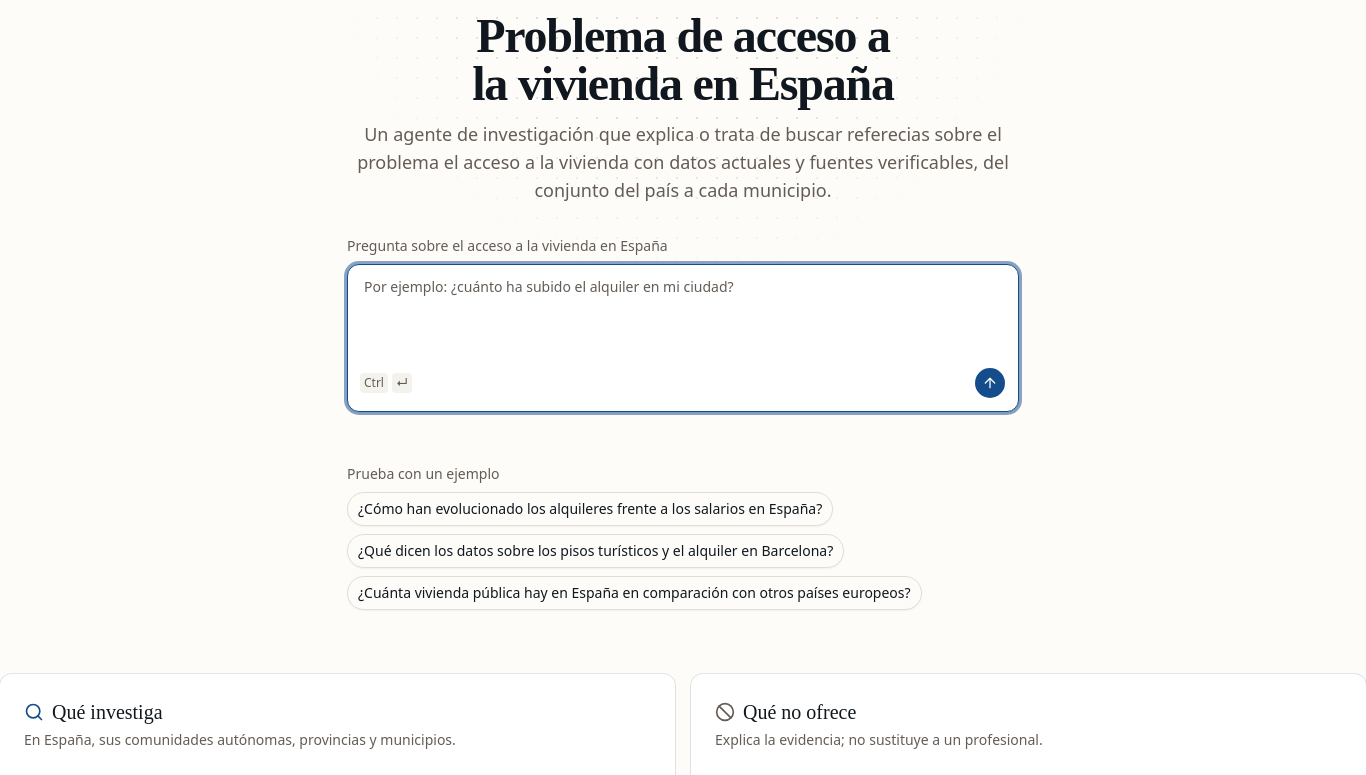
Test case: ResearchRequestForm › announces the status politely without moving focus
Step 1. Type "Hola" into the text box labelled "Pregunta sobre el acceso a la vivienda en España" → {"x": 683, "y": 313}, box [348,265,1018,361]
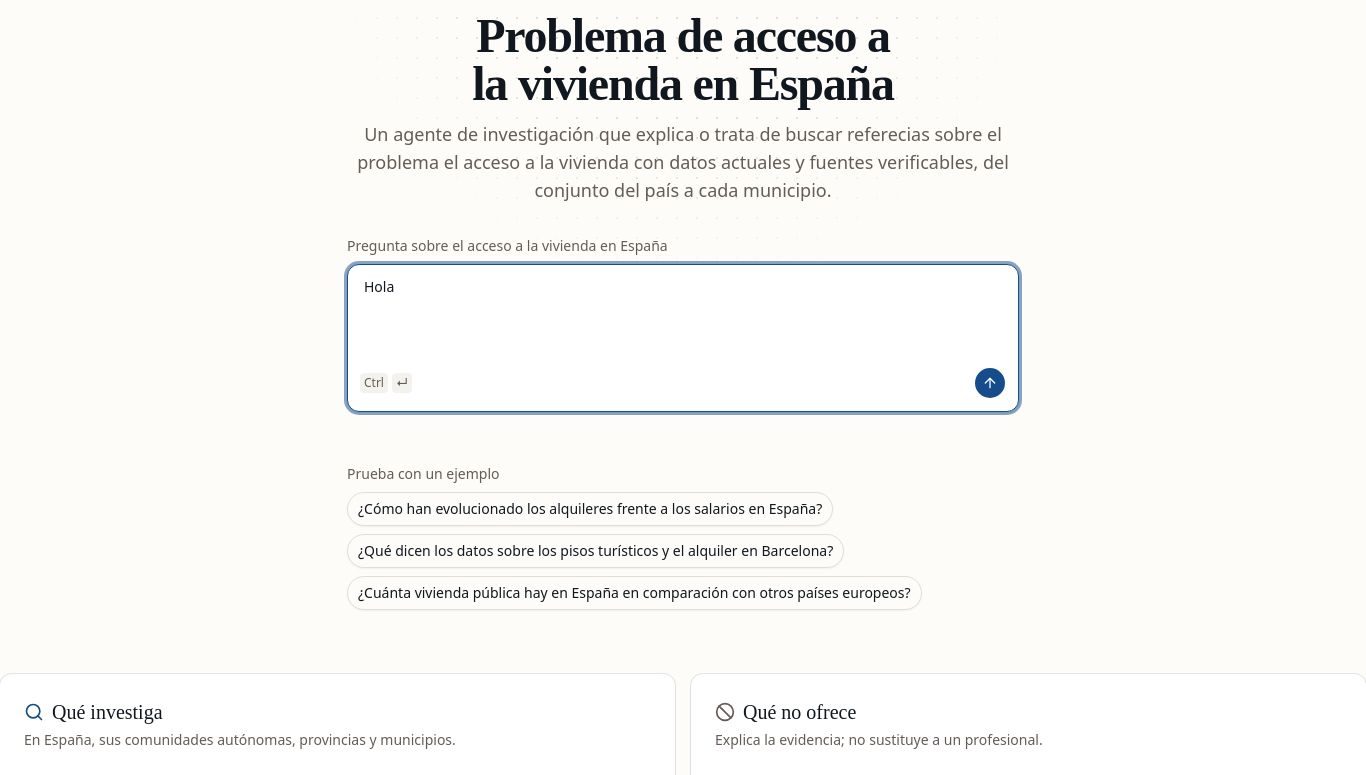
Step 2. Press Enter in the text box labelled "Pregunta sobre el acceso a la vivienda en España", box [348,265,1018,361]
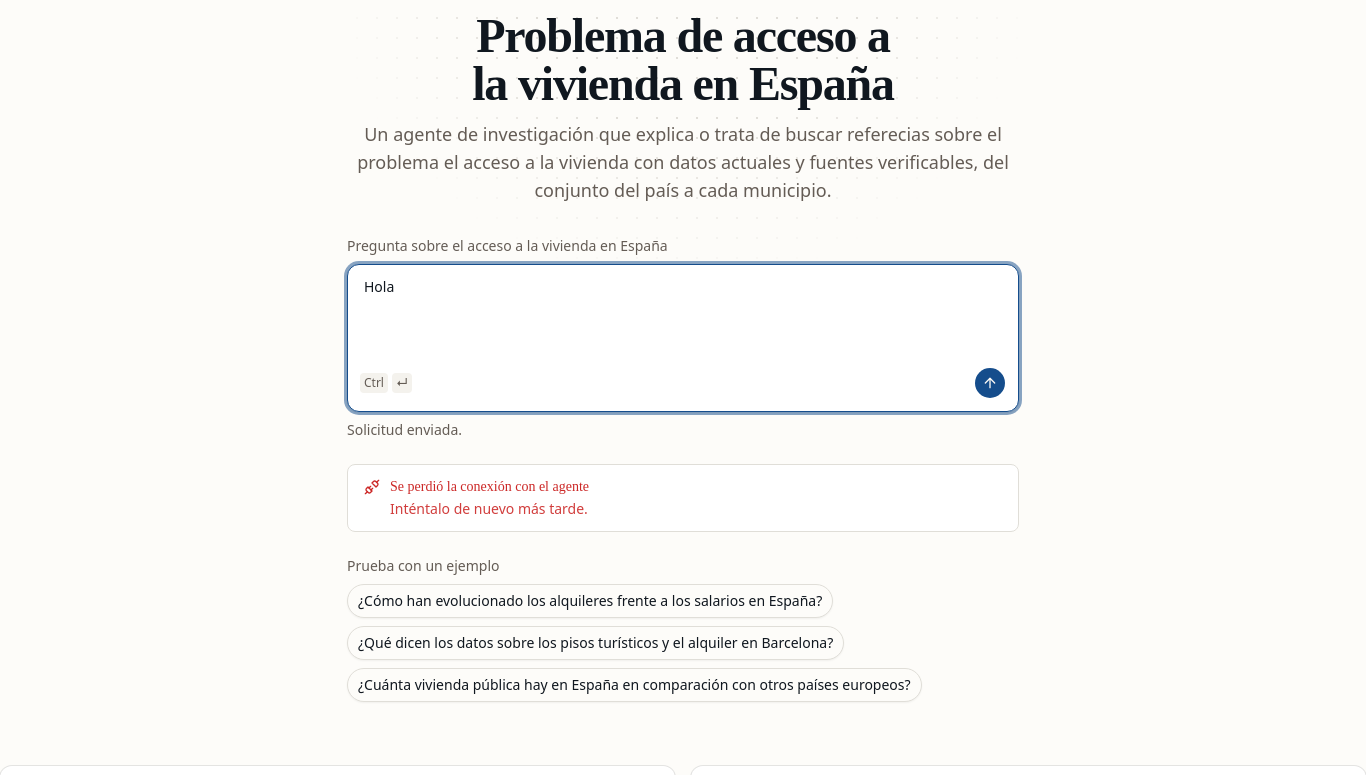
expect the text "Solicitud enviada." is shown: met, box [347,420,462,439]
